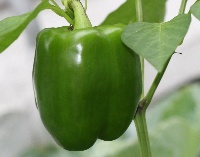capsicum: (33, 0, 140, 152)
